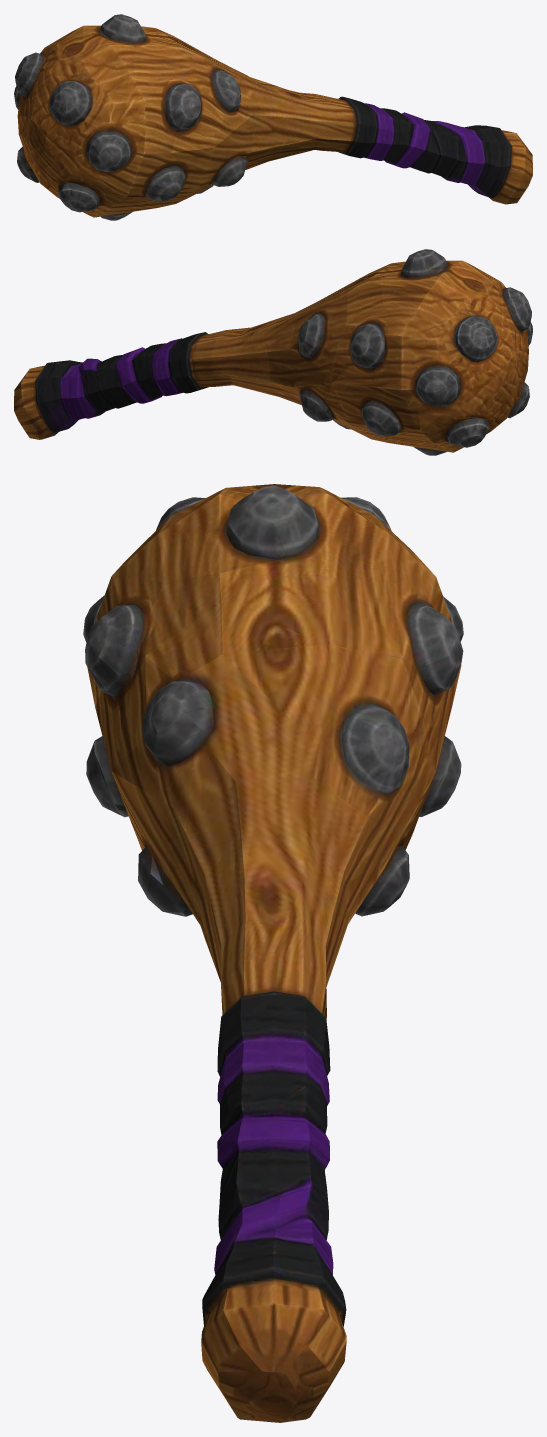
Rendered from bandit-club.glb.
3 renders of one model, top to bottom at view 1: azimuth 30°, elevation 25°; view 2: azimuth 150°, elevation 25°; view 3: azimuth 270°, elevation 25°, orthographic. The views are drawn at different scales.
Visible parts, largest first — view 1: output_unwrapped; view 2: output_unwrapped; view 3: output_unwrapped.
Part boxes in pixels (bbox=[...]): output_unwrapped: bbox=[14, 14, 532, 220]; output_unwrapped: bbox=[14, 249, 532, 455]; output_unwrapped: bbox=[83, 484, 463, 1422].
Size of the model in its own units: 1.88 by 0.9977 by 0.6215.
1 material, 1 textured.
